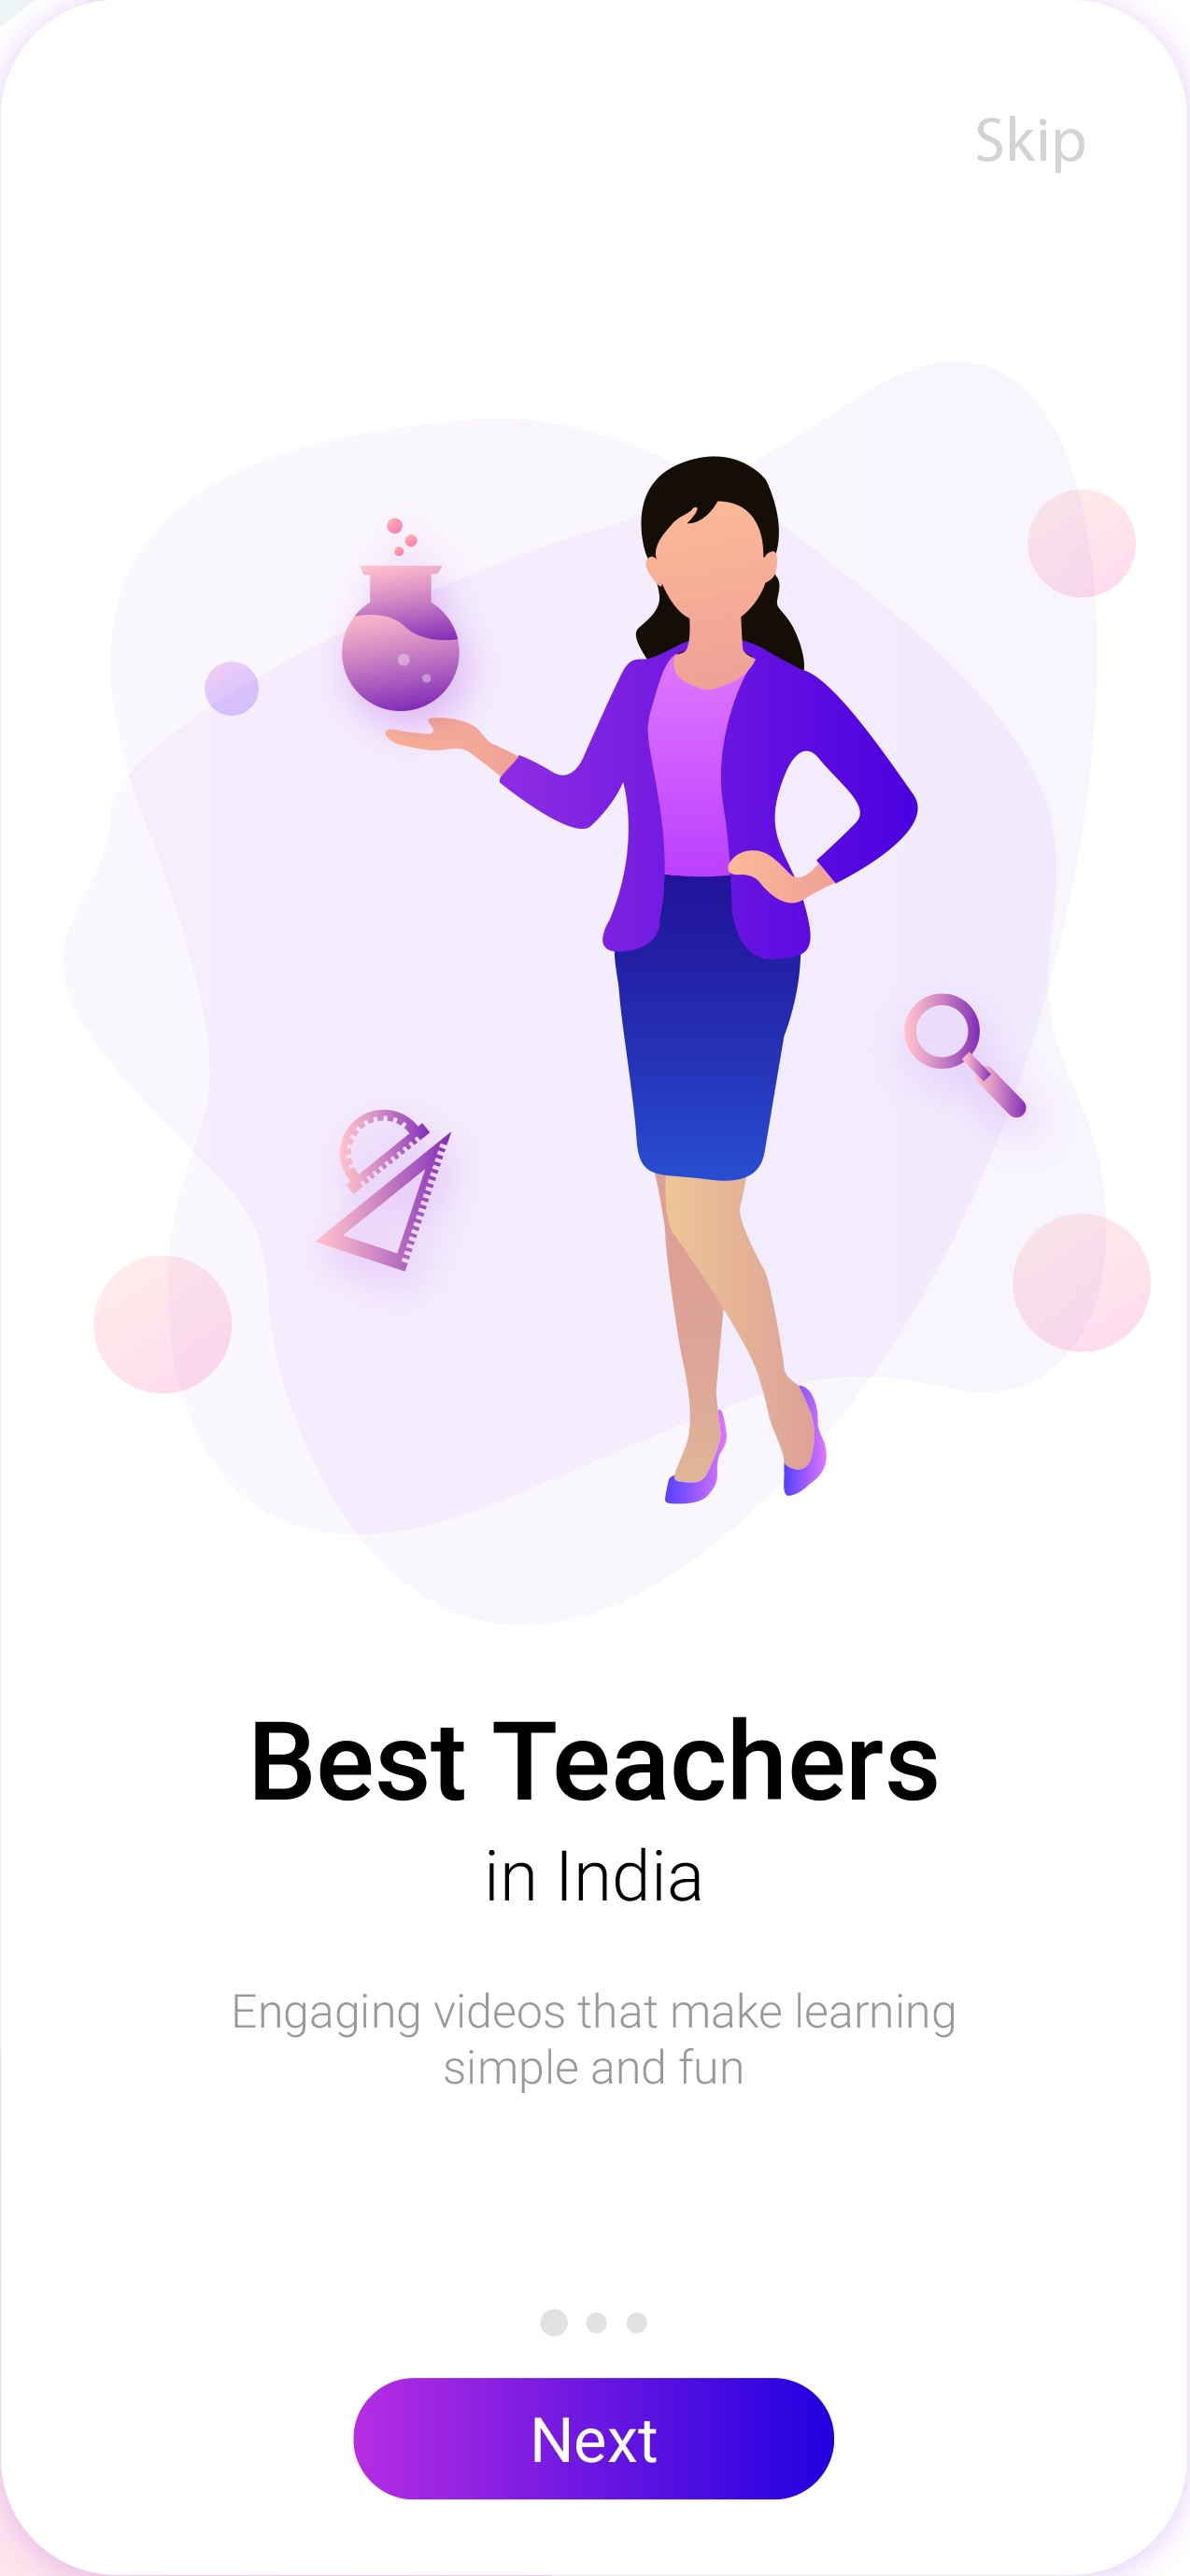Image: (62, 363, 1152, 1625)
PageIndicator: (540, 2308, 648, 2338)
Text: (235, 1993, 955, 2095), (254, 1715, 937, 1804), (489, 1847, 701, 1902), (977, 115, 1085, 174)
TextButton: (353, 2377, 835, 2500)
